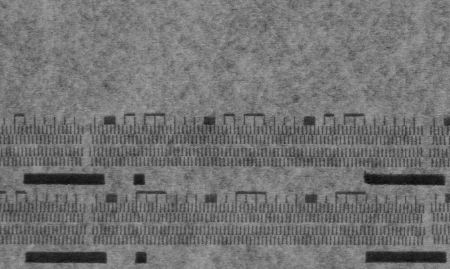Oblique printing: (431, 135, 444, 147)
